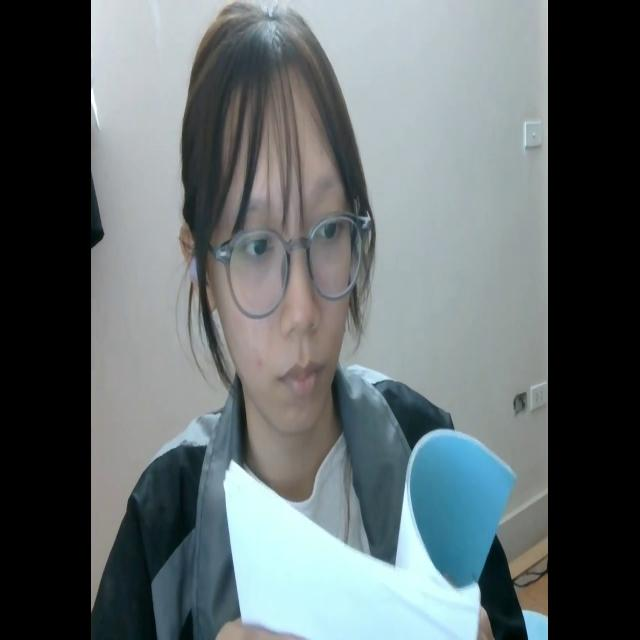book: (205, 428, 515, 640)
student: (114, 0, 522, 640)
